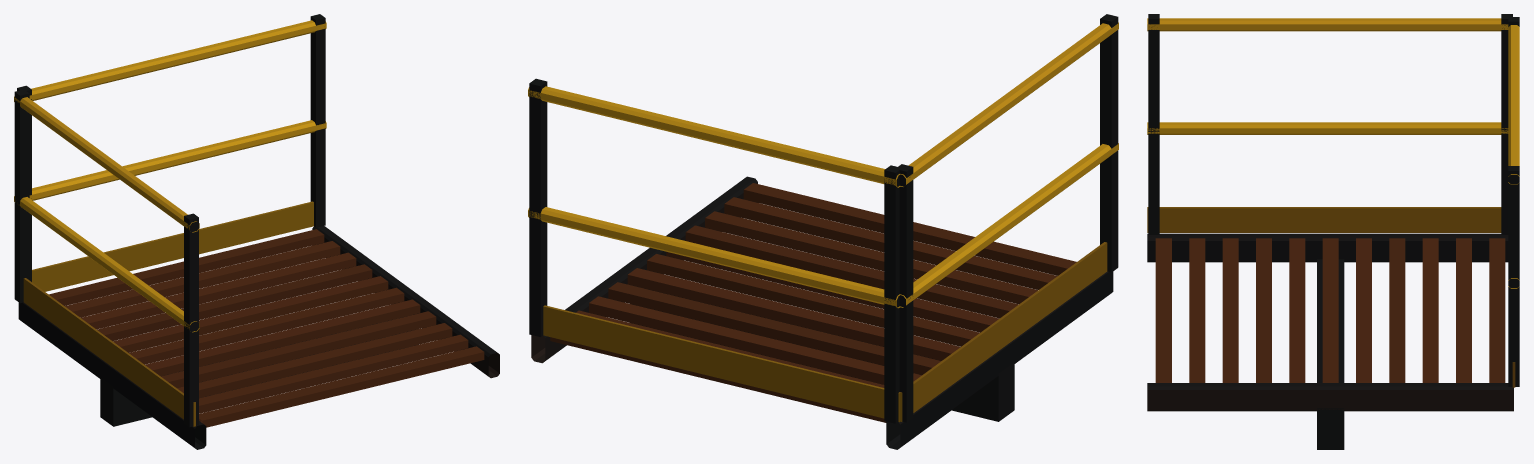
The model's file is kit_catwalk_corner.glb.
3 views of the same model, side by side, from view 1: azimuth 30°, elevation 25°; view 2: azimuth 150°, elevation 25°; view 3: azimuth 270°, elevation 25° (orthographic). The views are drawn at different scales.
Visible parts, largest first — view 1: Mesh; view 2: Mesh; view 3: Mesh.
Part boxes in pixels (box(x1,y1,x2,y2)): Mesh: box(14, 14, 499, 449); Mesh: box(528, 14, 1118, 449); Mesh: box(1147, 14, 1519, 449).
Bounding box in the file's own units: 1.62 × 1.34 × 1.62.
